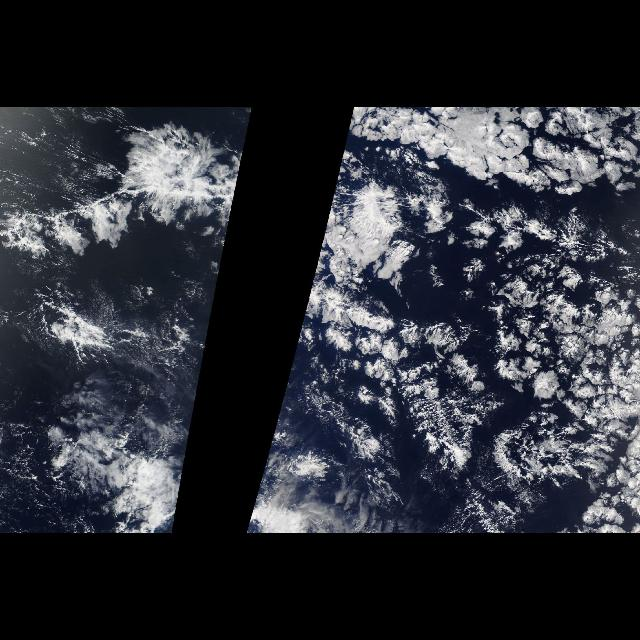Fish: (2, 118, 250, 276)
Flower: (320, 152, 640, 490)
